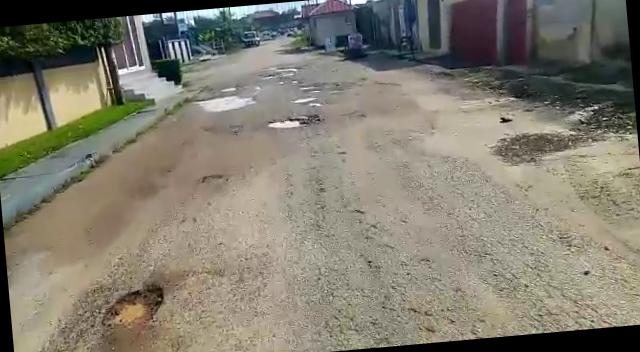pothole: (104, 282, 166, 328), (195, 92, 252, 111), (264, 114, 316, 132), (291, 94, 321, 104)
